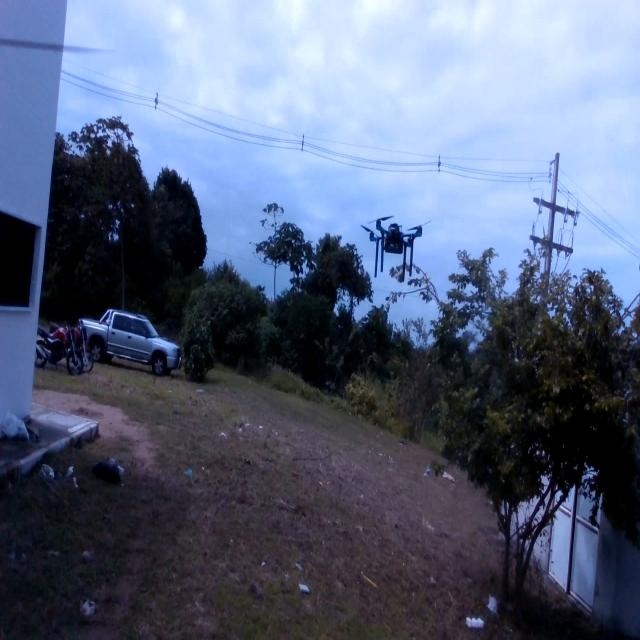-uav-: (354, 200, 434, 286)
